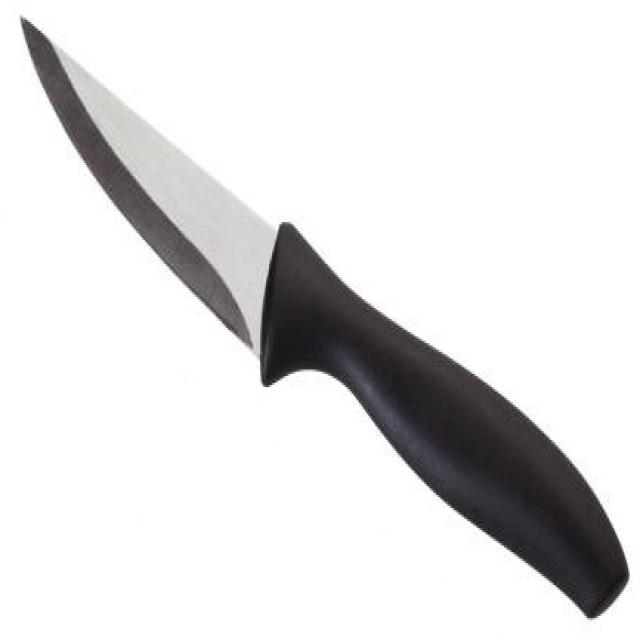knife: (18, 13, 634, 626)
